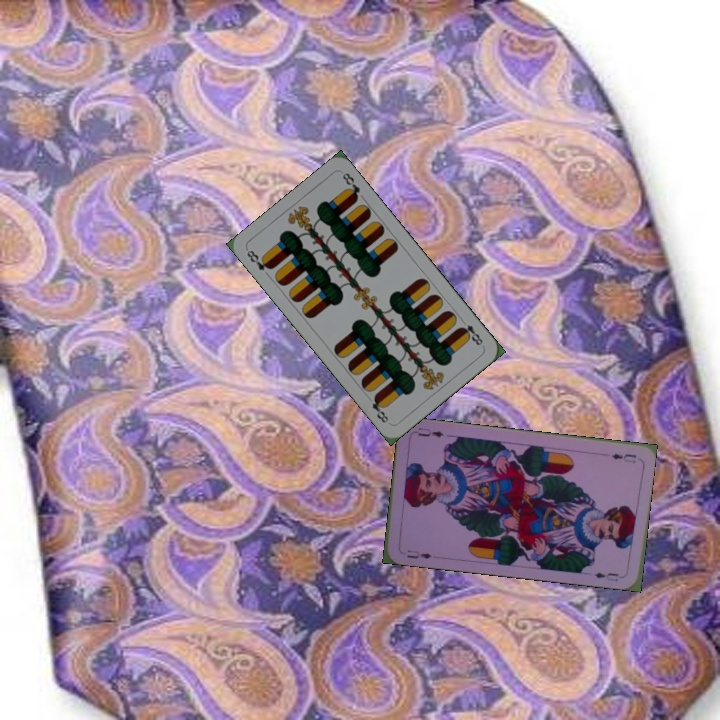E8: (456, 314, 486, 349), (243, 246, 275, 273)
EU: (607, 449, 638, 465), (403, 546, 434, 561)
